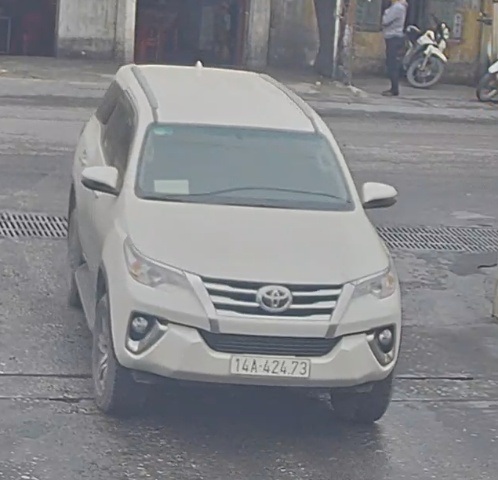vehicle plate: (228, 348, 314, 385)
